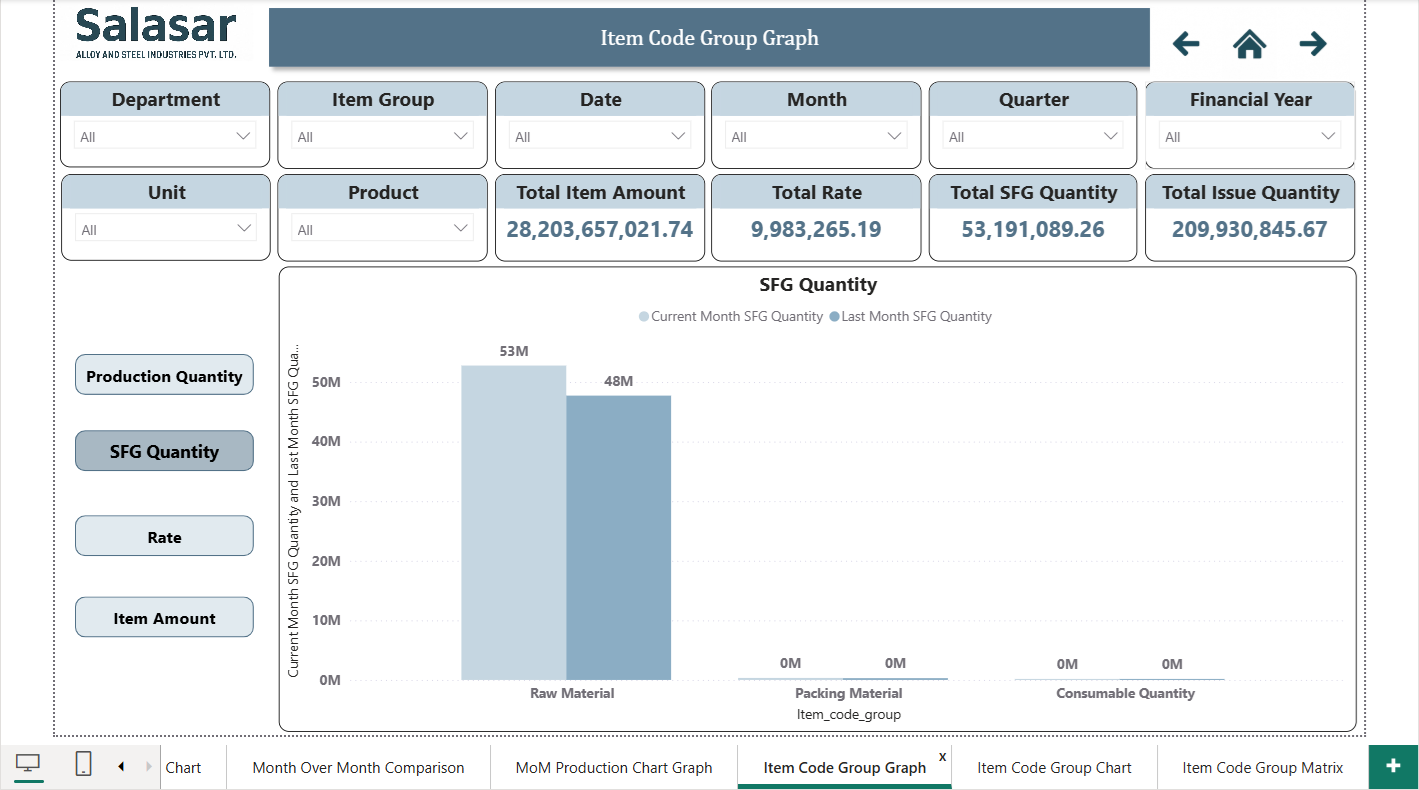

What the dashboard file says about the page in this screenshot:
{"tool":"powerbi","page":{"name":"Item Code Group Graph","canvas":[1280,720],"ordinal":12},"visuals":[{"type":"image","box":[1128.7,3.8,80,80],"z":0,"group":"g1"},{"type":"image","box":[1066.2,3.8,80,80],"z":1000,"group":"g1"},{"type":"clusteredColumnChart","title":"SFG Quantity","fields":{"Category":["Sheet 1.Item_code_group"],"Y":["Sheet 1.Current Month SFG Quantity","Sheet 1.Last Month SFG Quantity"]},"box":[218.9,261.7,1054.1,455],"z":1000},{"type":"image","box":[1191.2,3.8,80,80],"z":2000,"group":"g1"},{"type":"slicer","title":"Department","fields":{"Values":["Sheet 1.Department Name"]},"box":[4.9,81,205.4,84.4],"z":4000},{"type":"actionButton","box":[20.6,347.8,175,40],"z":4000,"group":"g5"},{"type":"slicer","title":"Item Group","fields":{"Values":["Sheet 1.Item Group Name"]},"box":[217.4,81,205.4,85.6],"z":5000},{"type":"slicer","title":"Date","fields":{"Values":["Sheet 1.Doc Date"]},"box":[429.9,81,205.4,85.6],"z":6000},{"type":"actionButton","box":[20.6,505,175,40],"z":6000,"group":"g3"},{"type":"slicer","title":"Month","fields":{"Values":["Calendar.Month"]},"box":[642.5,81,205.4,85.6],"z":7000},{"type":"actionButton","box":[20.6,584.5,175,40],"z":7000,"group":"g4"},{"type":"actionButton","title":"SFGQ Highlight","box":[20,422,175,40],"z":7017,"group":"g2"},{"type":"slicer","title":"Quarter","fields":{"Values":["Calendar.Qtr"]},"box":[855,81,204.2,85.6],"z":8000},{"type":"slicer","title":"Financial Year","fields":{"Values":["Calendar.Fiscal Year"]},"box":[1066.3,81,205.4,85.6],"z":9000},{"type":"slicer","title":"Unit","fields":{"Values":["Sheet 1.unit"]},"box":[6.1,171,205,85],"z":10000},{"type":"card","title":"Total Item Amount ","fields":{"Values":["Sum(Sheet 1.ItemAmount)"]},"box":[430.4,171,205.4,85.6],"z":11000},{"type":"card","title":"Total Rate","fields":{"Values":["Sum(Sheet 1.Rate)"]},"box":[642,171,205.4,85.6],"z":12000},{"type":"card","title":"Total SFG Quantity","fields":{"Values":["Sum(Sheet 1.SFG Quantity)"]},"box":[854.8,171,204.2,85.6],"z":13000},{"type":"card","title":"Total Issue Quantity","fields":{"Values":["Sum(Sheet 1.Issue Quantity)"]},"box":[1066.3,171,205.4,85.6],"z":14000},{"type":"slicer","title":"Product","fields":{"Values":["Sheet 1.Product Name"]},"box":[217.7,171,205.4,85.6],"z":15000},{"type":"shape","box":[200,0,880,75],"z":16000},{"type":"image","box":[0,0,199.3,66],"z":17000},{"type":"group","id":"g1","title":"Group 1","box":[1066.2,3.8,205,80],"z":18000},{"type":"group","id":"g2","title":"Group 3","box":[20,422,175,40.5],"z":19000},{"type":"group","id":"g3","title":"Group 4","box":[20,505,175.6,40],"z":20000},{"type":"group","id":"g4","title":"Group 5","box":[20,584,175.6,40.5],"z":21000},{"type":"group","id":"g5","title":"Group 2","box":[20,347.5,175.6,40.3],"z":22000}]}

Visuals, with their boxes on the page's 1280x720 design canvas (x1, y1, x2, y2). These are canvas units, not pixel positions in the 1419x790 screenshot, which may show the page scaled, cropped or inside an application window:
image: rect(1129, 4, 1209, 84)
image: rect(1066, 4, 1146, 84)
"SFG Quantity" clusteredColumnChart: rect(219, 262, 1273, 717)
image: rect(1191, 4, 1271, 84)
"Department" slicer: rect(5, 81, 210, 165)
actionButton: rect(21, 348, 196, 388)
"Item Group" slicer: rect(217, 81, 423, 167)
"Date" slicer: rect(430, 81, 635, 167)
actionButton: rect(21, 505, 196, 545)
"Month" slicer: rect(642, 81, 848, 167)
actionButton: rect(21, 584, 196, 624)
"SFGQ Highlight" actionButton: rect(20, 422, 195, 462)
"Quarter" slicer: rect(855, 81, 1059, 167)
"Financial Year" slicer: rect(1066, 81, 1272, 167)
"Unit" slicer: rect(6, 171, 211, 256)
"Total Item Amount " card: rect(430, 171, 636, 257)
"Total Rate" card: rect(642, 171, 847, 257)
"Total SFG Quantity" card: rect(855, 171, 1059, 257)
"Total Issue Quantity" card: rect(1066, 171, 1272, 257)
"Product" slicer: rect(218, 171, 423, 257)
shape: rect(200, 0, 1080, 75)
image: rect(0, 0, 199, 66)
"Group 1" group: rect(1066, 4, 1271, 84)
"Group 3" group: rect(20, 422, 195, 462)
"Group 4" group: rect(20, 505, 196, 545)
"Group 5" group: rect(20, 584, 196, 624)
"Group 2" group: rect(20, 348, 196, 388)
